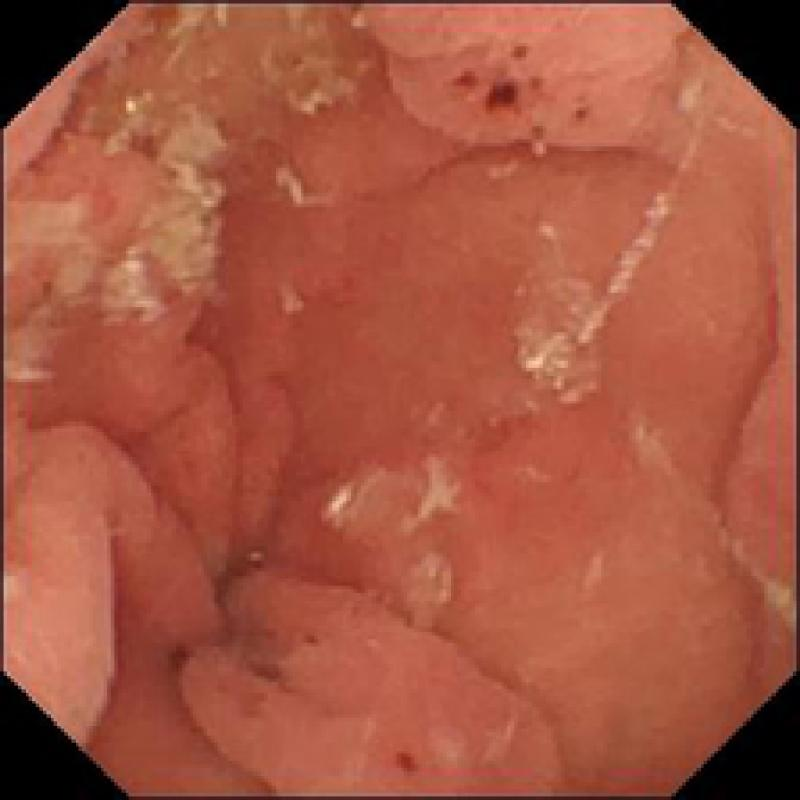bleeding: (439, 39, 590, 132), (389, 738, 429, 780), (163, 635, 192, 669)
